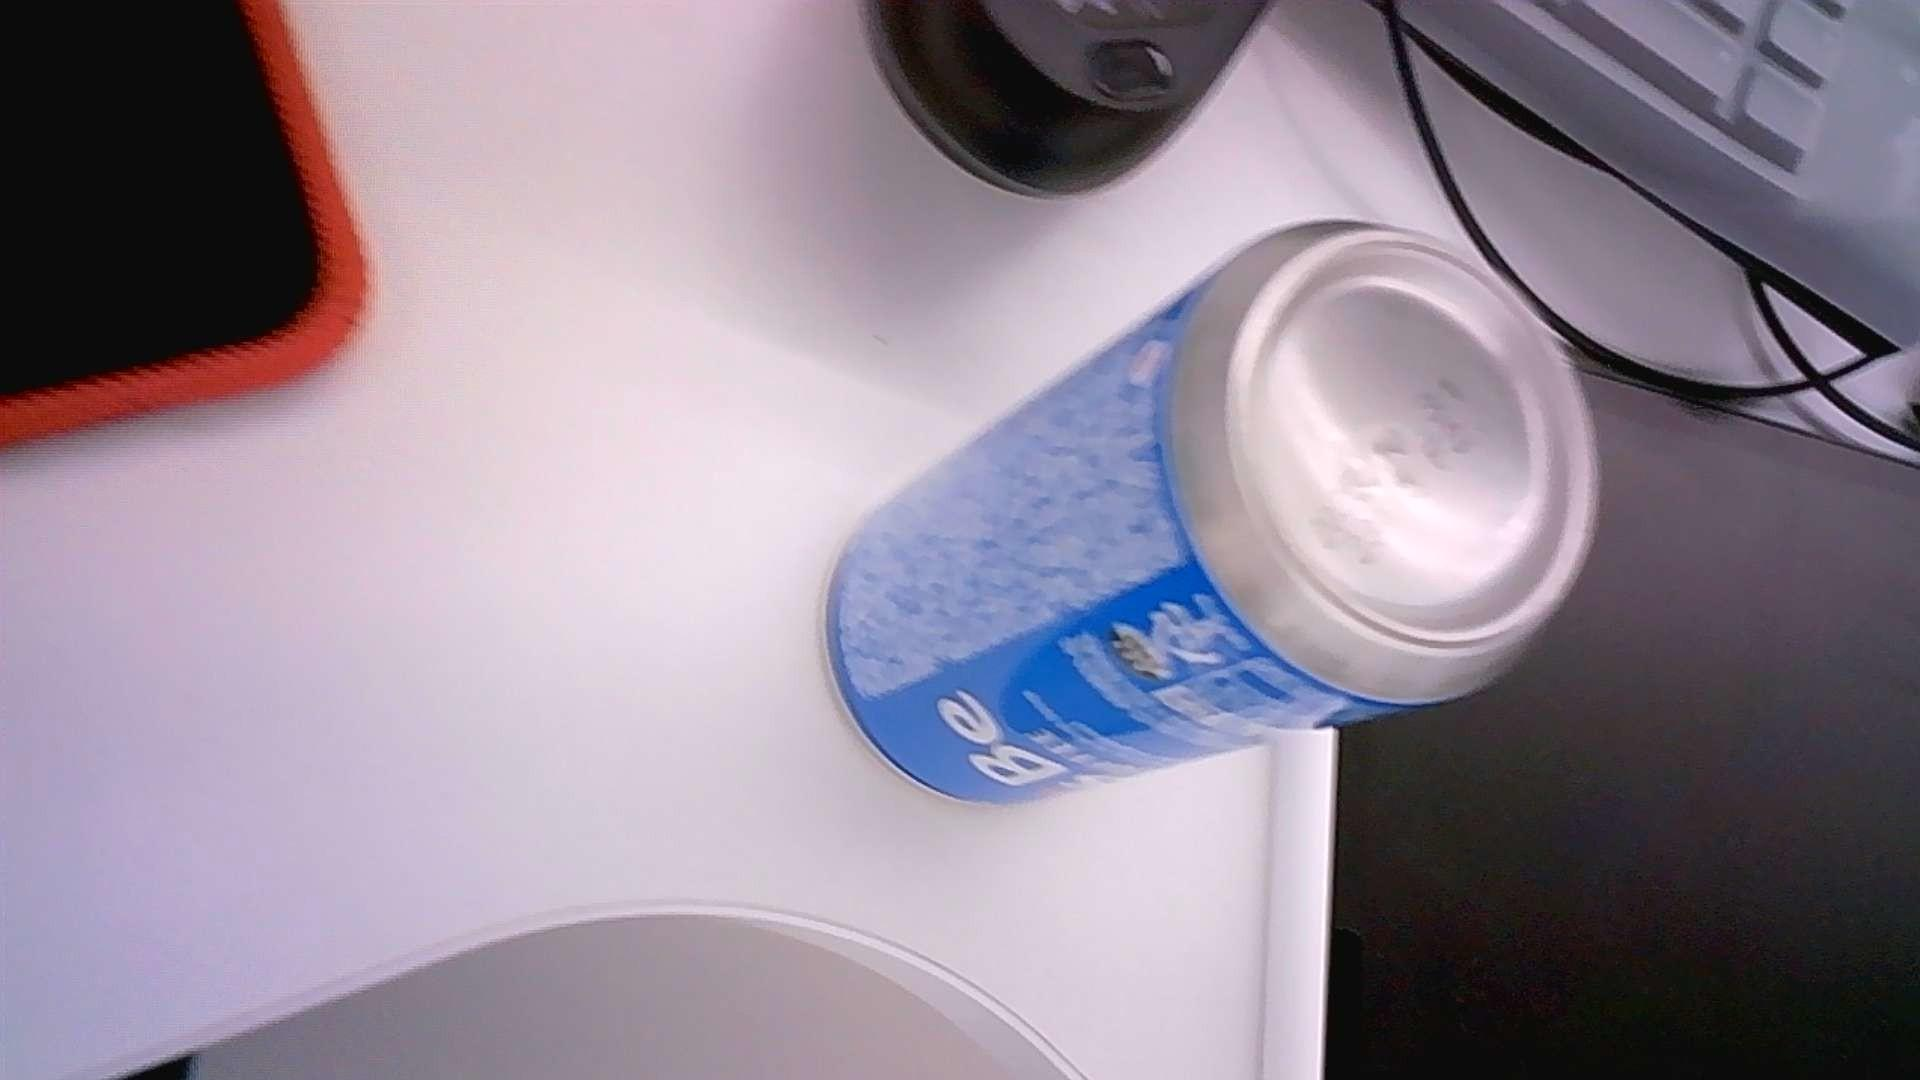letsbe: (823, 216, 1602, 808)
